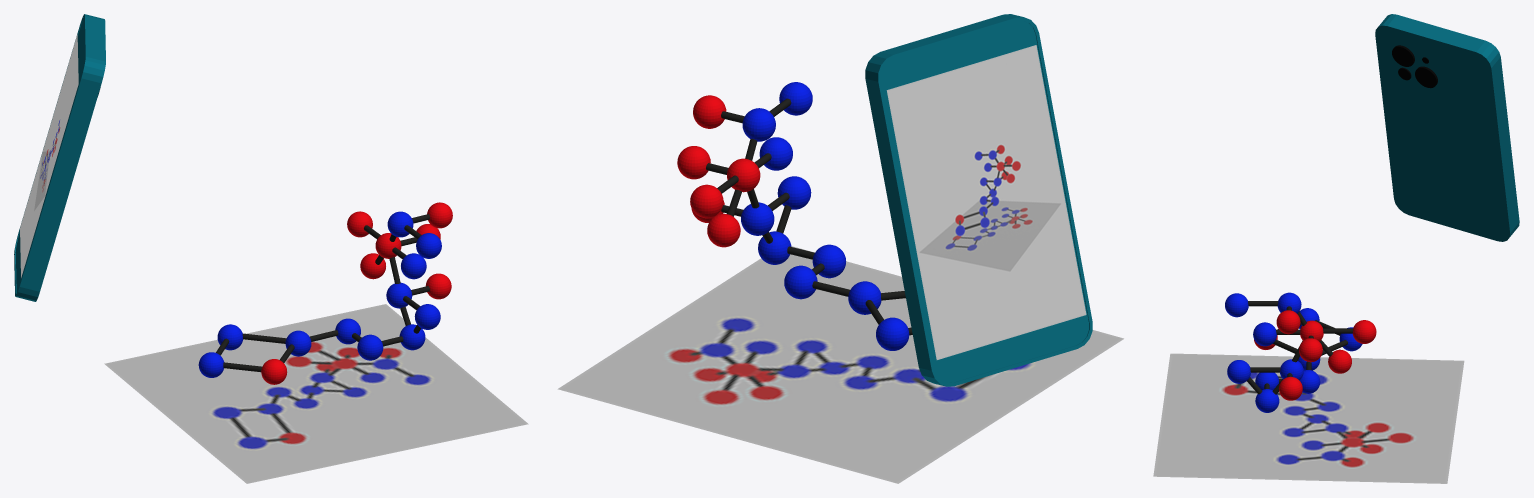
Rendered from molecula.glb.
The picture shows the model from 3 angles, left to right: view 1: azimuth 30°, elevation 25°; view 2: azimuth 150°, elevation 25°; view 3: azimuth 270°, elevation 25°; orthographic projection. The views are drawn at different scales.
Parts seen in each view (by area): view 1: Screenshot 2024-03-11 205625, Sphere.016, Screenshot 2024-03-11 205745; view 2: Screenshot 2024-03-11 205745, Screenshot 2024-03-11 205625, Sphere.016; view 3: Screenshot 2024-03-11 205625, Screenshot 2024-03-11 205745, Sphere.016.
Part boxes in pixels (x1,y1,x2,y2): Screenshot 2024-03-11 205625: [104, 304, 528, 483]; Sphere.016: [198, 202, 452, 384]; Screenshot 2024-03-11 205745: [14, 14, 105, 301]; Screenshot 2024-03-11 205745: [865, 14, 1092, 386]; Screenshot 2024-03-11 205625: [557, 246, 1123, 483]; Sphere.016: [677, 82, 912, 350]; Screenshot 2024-03-11 205625: [1153, 353, 1464, 483]; Screenshot 2024-03-11 205745: [1375, 14, 1519, 241]; Sphere.016: [1225, 292, 1376, 412].
Size of the model in its own units: 8.99 by 7.63 by 7.88.
Materials: 8 (2 with a texture image).
